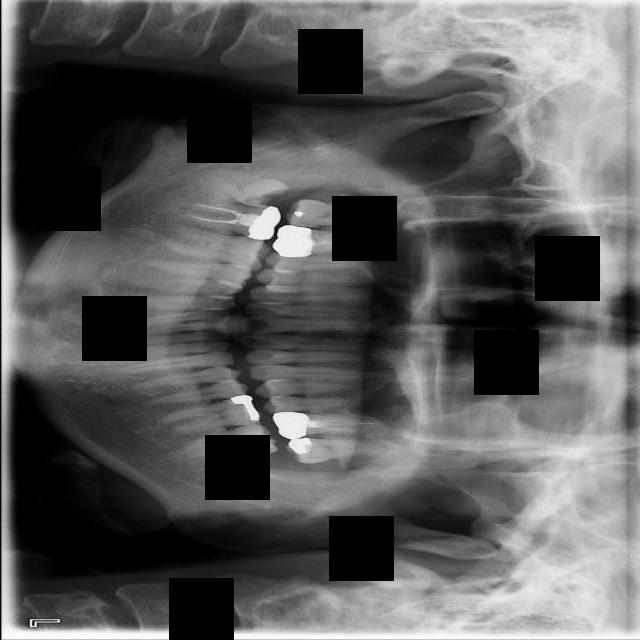52: (235, 202, 283, 242), (220, 392, 262, 432), (272, 224, 319, 259), (281, 201, 330, 229), (270, 411, 312, 440), (286, 438, 323, 466)
73: (174, 200, 249, 233), (301, 411, 382, 436), (314, 230, 372, 254), (85, 596, 99, 600)
BioHorizons Implant: (288, 433, 399, 468)
Blue Sky Bio Implant: (172, 422, 279, 464)
Caries: (285, 201, 395, 230)
Implant: (172, 196, 281, 242)
Keystone Dental Implant: (196, 159, 290, 216)
